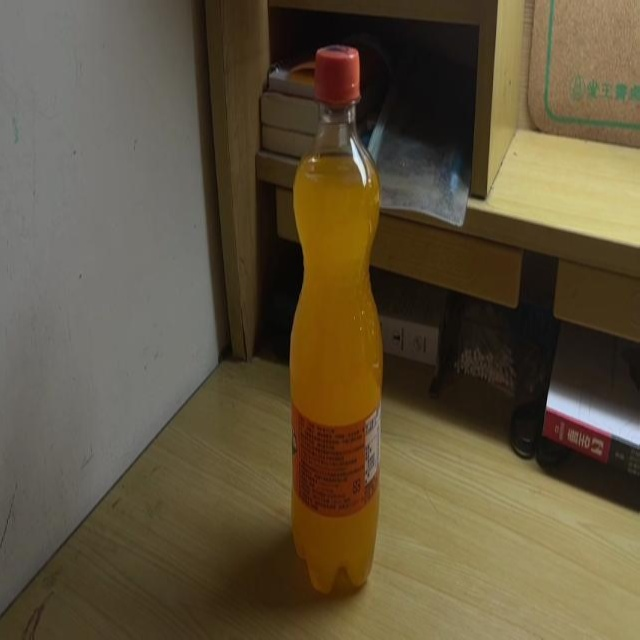Fanta: (291, 46, 383, 599)
